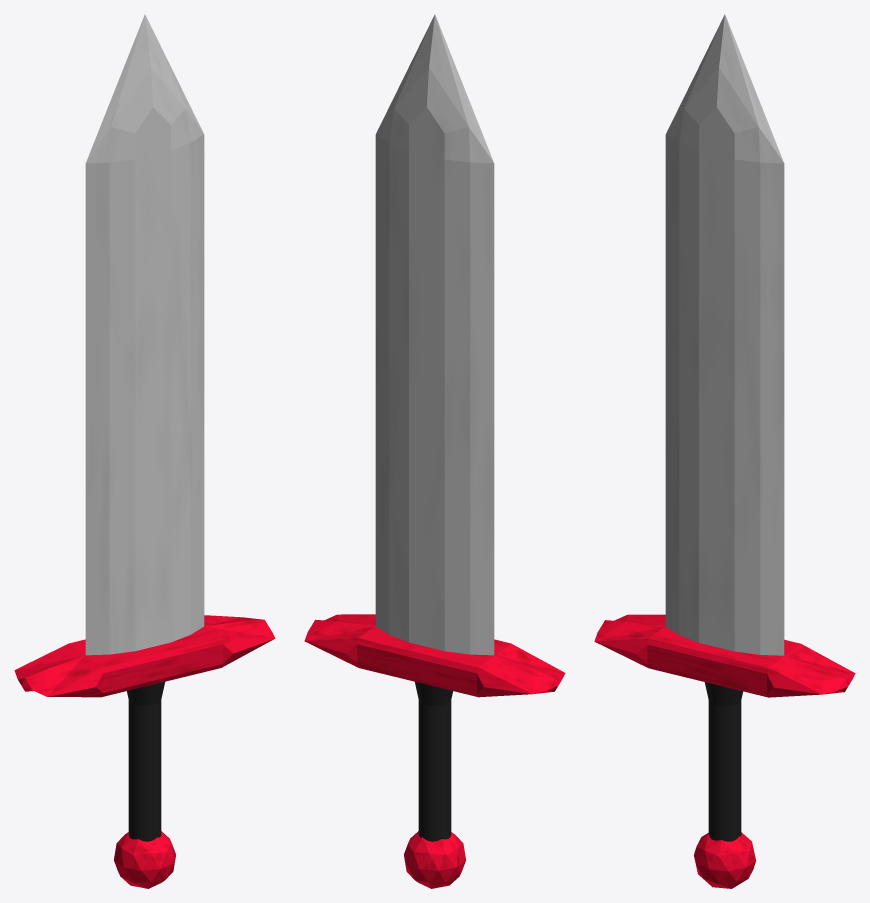
The model's file is MyLongsword.fbx.
3 renders of one model, left to right at view 1: azimuth 30°, elevation 25°; view 2: azimuth 150°, elevation 25°; view 3: azimuth 330°, elevation 25°, orthographic.
Visible parts, largest first — view 1: Blade, guard, handle, Pommel; view 2: Blade, guard, handle, Pommel; view 3: Blade, guard, handle, Pommel.
Boxes of the visible parts, <box> form: Blade: <box>85,14,204,655</box>; guard: <box>14,615,275,697</box>; handle: <box>127,682,164,841</box>; Pommel: <box>114,831,175,888</box>; Blade: <box>375,14,494,655</box>; guard: <box>304,614,565,697</box>; handle: <box>415,682,452,841</box>; Pommel: <box>404,831,465,888</box>; Blade: <box>665,14,784,655</box>; guard: <box>594,614,855,697</box>; handle: <box>704,682,742,841</box>; Pommel: <box>694,832,756,888</box>.
Bounding box in the file's own units: 174 × 584 × 48.52.
